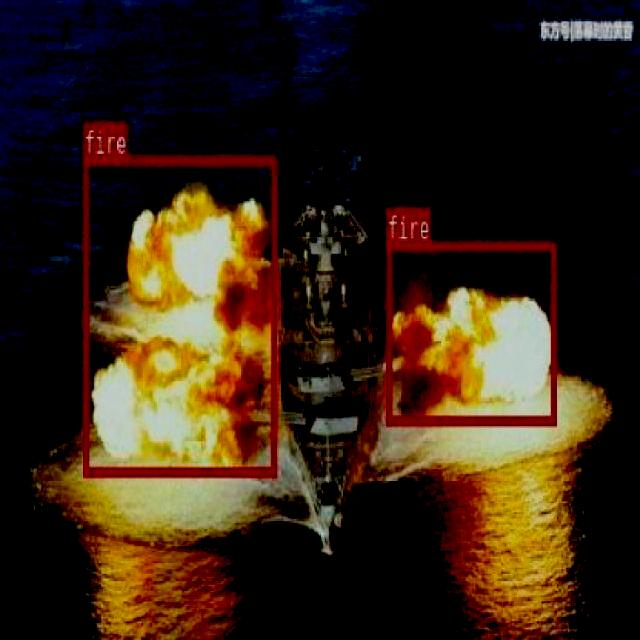fire: (82, 154, 276, 474), (386, 240, 554, 425)
